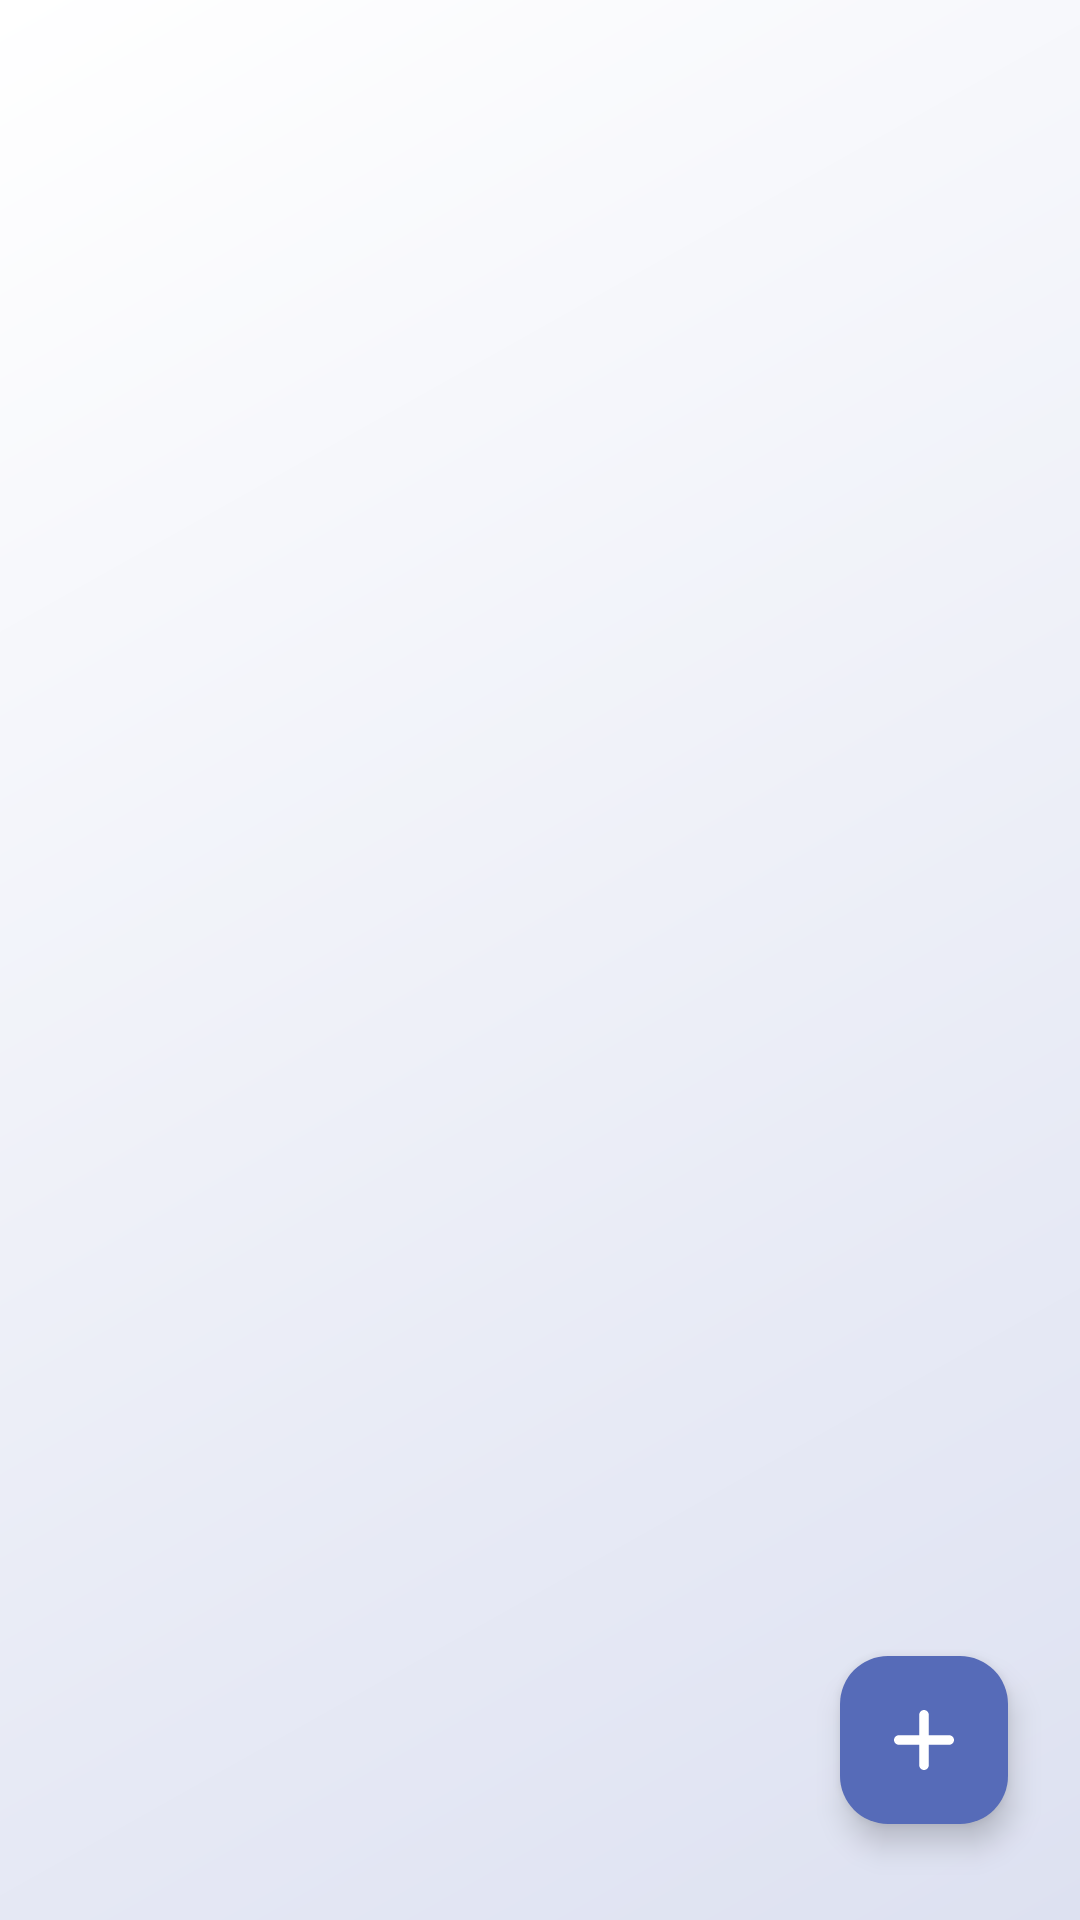

Icons on this 1080*1920 Android screen, each with its box as (x1, y1, x2, y2):
Tambah Todo: (840, 1656, 1008, 1824)
